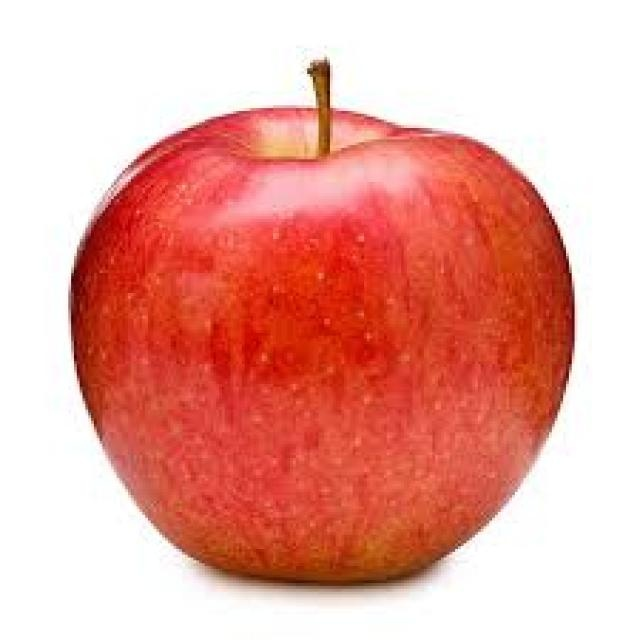agrume: (55, 60, 586, 629)
